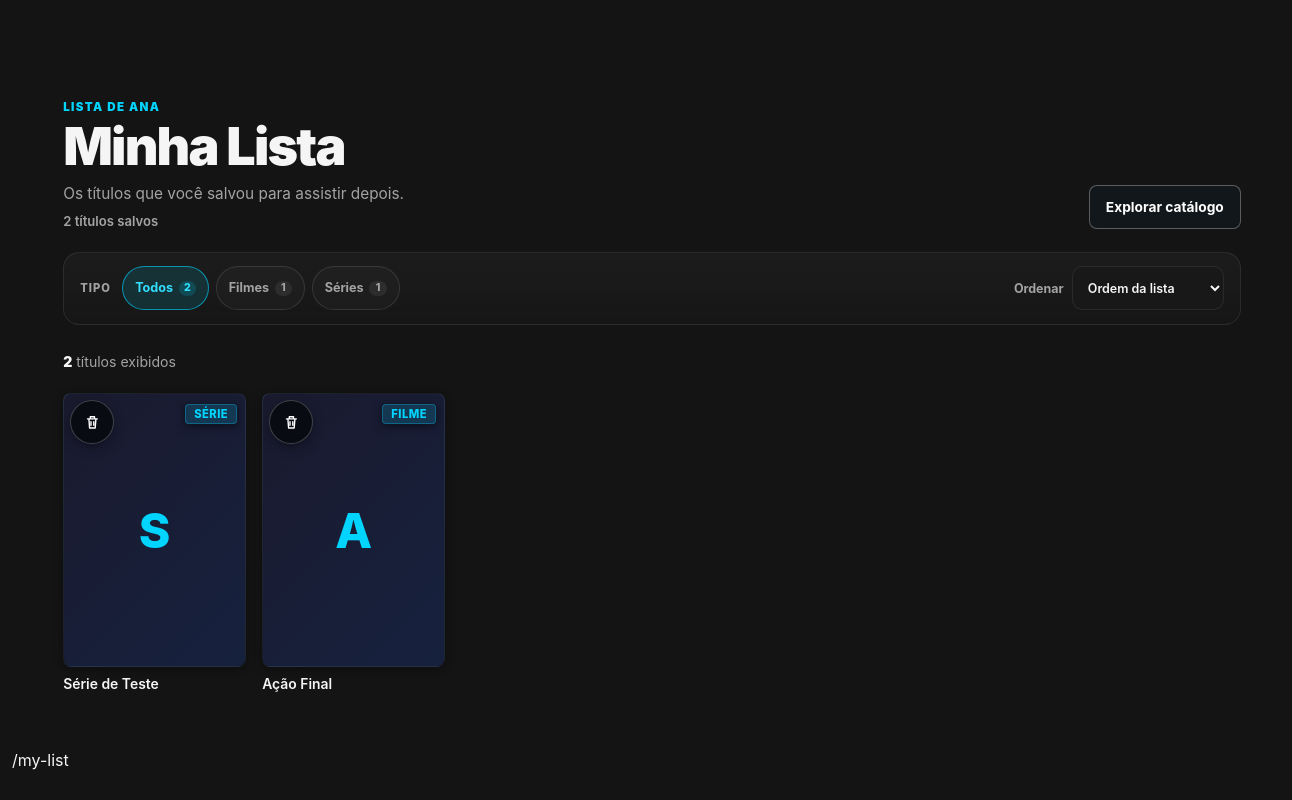
sorts the complete saved list alphabetically
Expected: the link "A Filme Ação Final" is shown, [262, 393, 445, 694]
Select "A–Z" in the dropdown labelled "Ordenar" at [1148, 288], box [1072, 266, 1224, 310]
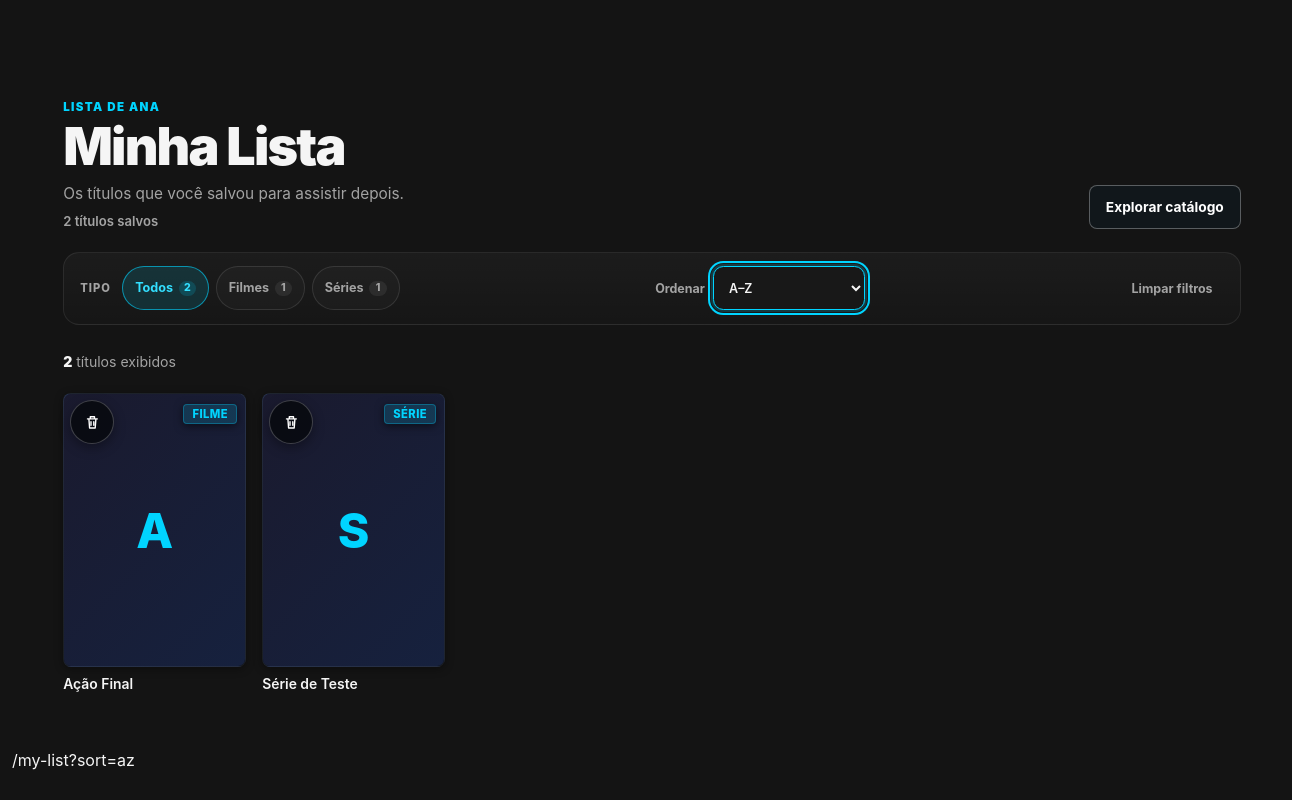
Expected: the link "A Filme Ação Final" is shown, [63, 393, 246, 694]
Now the text with test id "location" shows "sort=az", box [12, 750, 135, 770]
